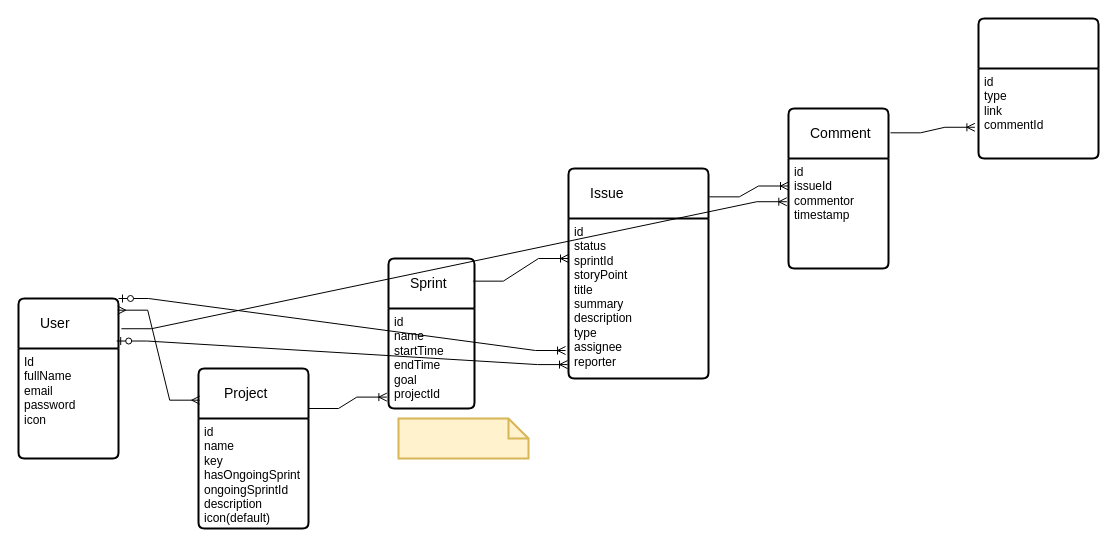
The diagram is 1116 pixels wide and 557 high, and some of its shapes have lost their labels. The shapes that lost their labels are listed below. From the top down, each one's box as (x1, y1, x2, y2) in pixels, then its label:
(977, 17, 1099, 159): Attachment
(397, 417, 529, 459): Default Sprint- Backlog
